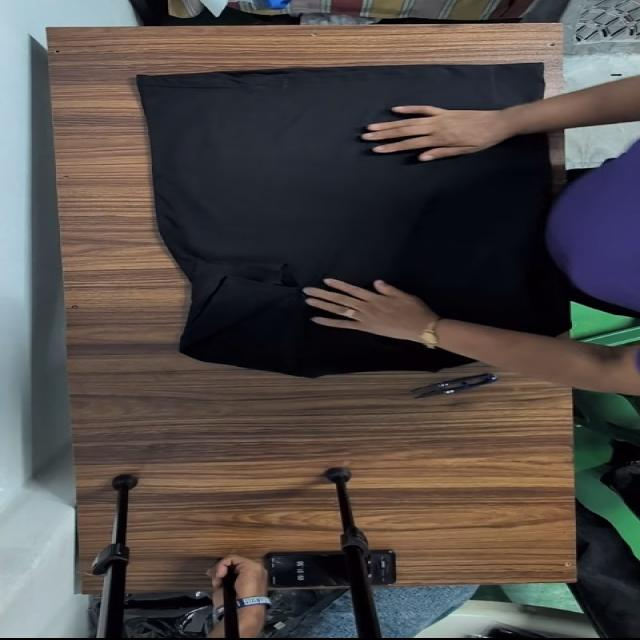new-garment: (137, 65, 567, 376)
